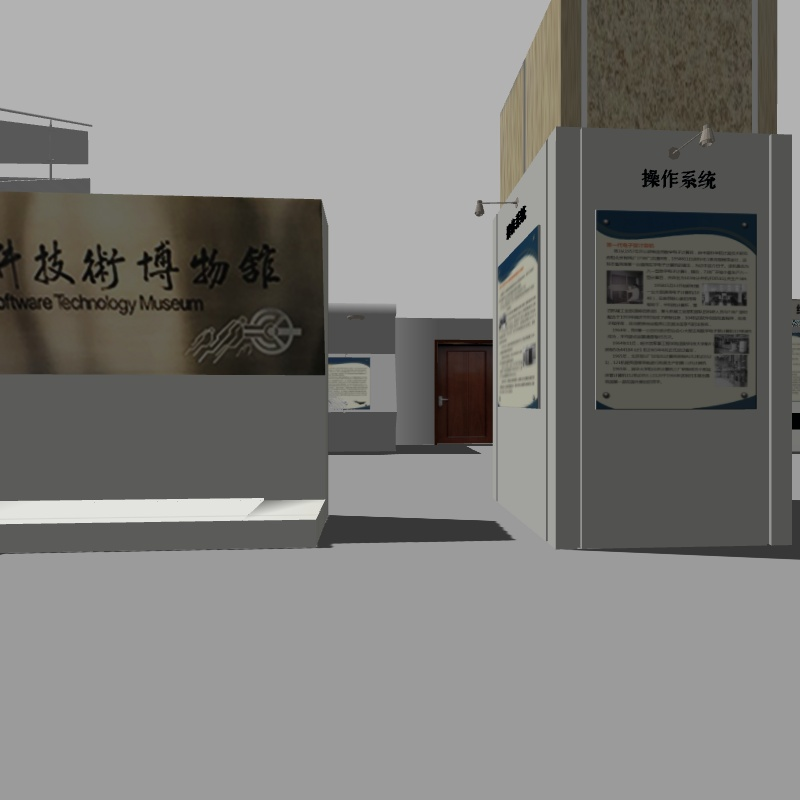handle: (435, 391, 451, 409)
